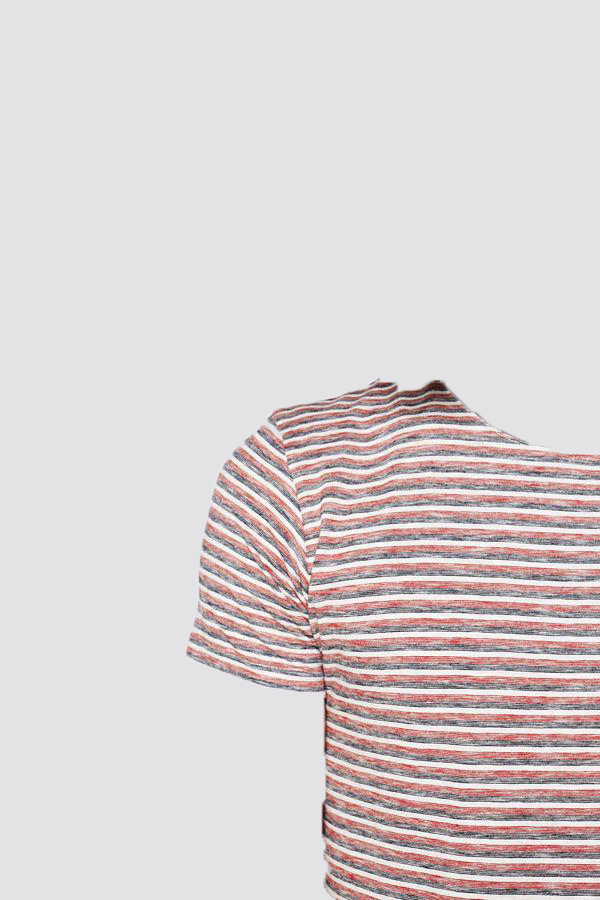teeshirt: (174, 371, 600, 895)
